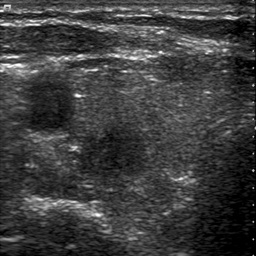mass: (78, 114, 149, 179)
